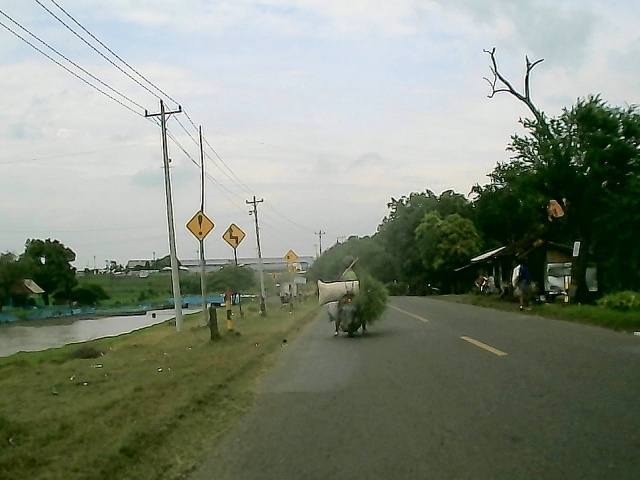Hati-hati: (184, 209, 215, 244)
Tikungan garda pertama kiri: (221, 221, 246, 249)
